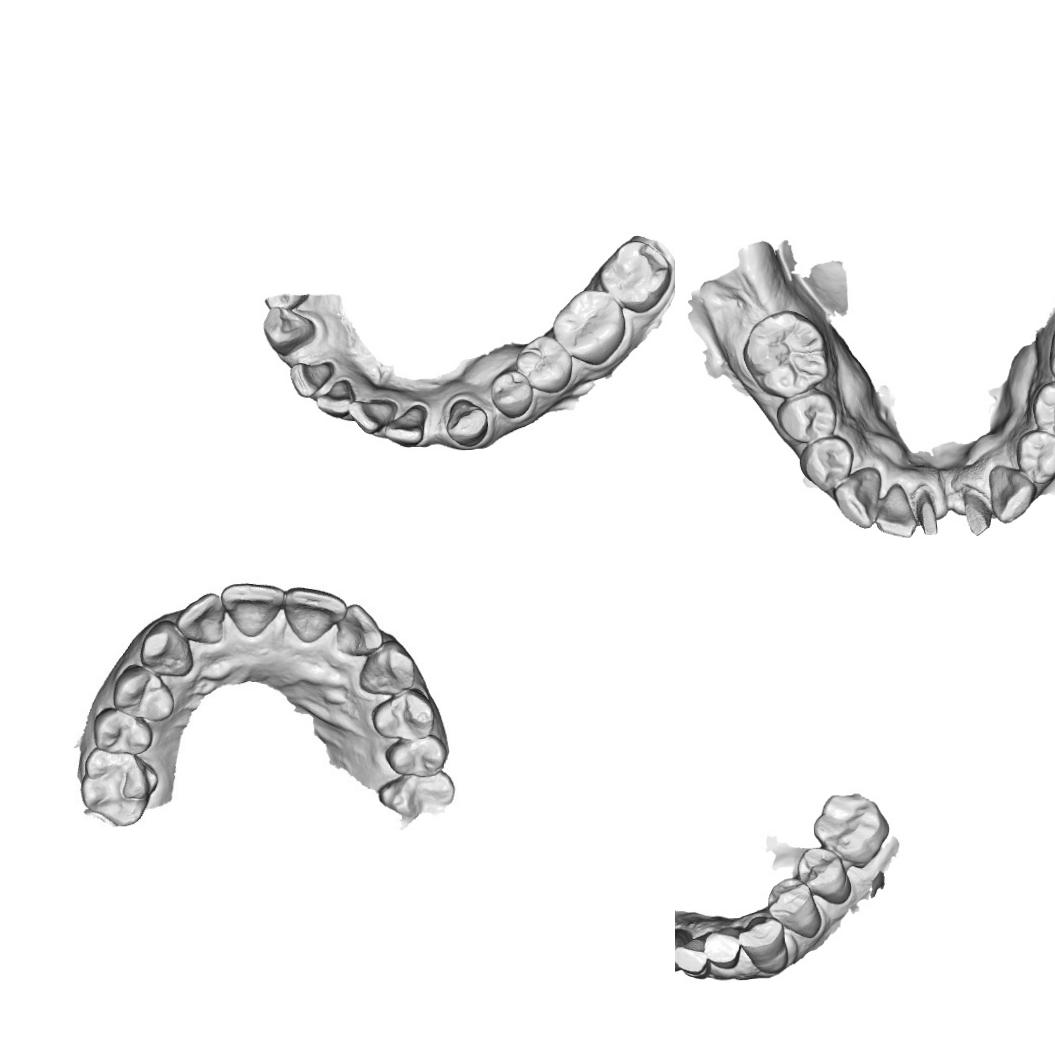abutment: (956, 489, 994, 538), (914, 488, 942, 536)
canine: (831, 465, 883, 530), (138, 619, 196, 677), (736, 913, 788, 974), (988, 463, 1038, 524), (362, 645, 420, 696), (258, 307, 318, 350), (444, 397, 490, 448)
incisor: (288, 588, 346, 643), (223, 581, 279, 634), (338, 601, 386, 656), (874, 481, 916, 538), (382, 402, 430, 449), (182, 594, 229, 641), (288, 360, 336, 399), (701, 924, 740, 970), (348, 398, 396, 435), (314, 378, 357, 419), (675, 935, 710, 979), (675, 926, 688, 972)
molar: (740, 308, 828, 400), (74, 748, 160, 828), (810, 789, 892, 870), (550, 287, 628, 367), (596, 238, 674, 316)
premolar: (368, 686, 440, 743), (514, 333, 575, 396), (111, 664, 173, 723), (766, 876, 823, 940), (798, 433, 856, 494), (774, 389, 838, 444), (89, 706, 154, 756), (794, 846, 850, 904), (382, 733, 450, 778), (488, 368, 534, 420), (1015, 428, 1055, 486), (1031, 382, 1055, 439)
